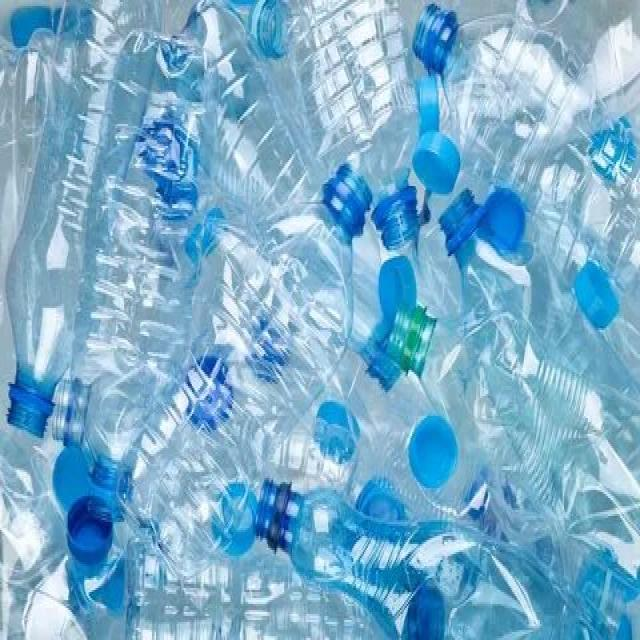blue: (117, 165, 373, 580), (7, 1, 165, 436), (437, 188, 608, 585), (410, 4, 640, 296)
